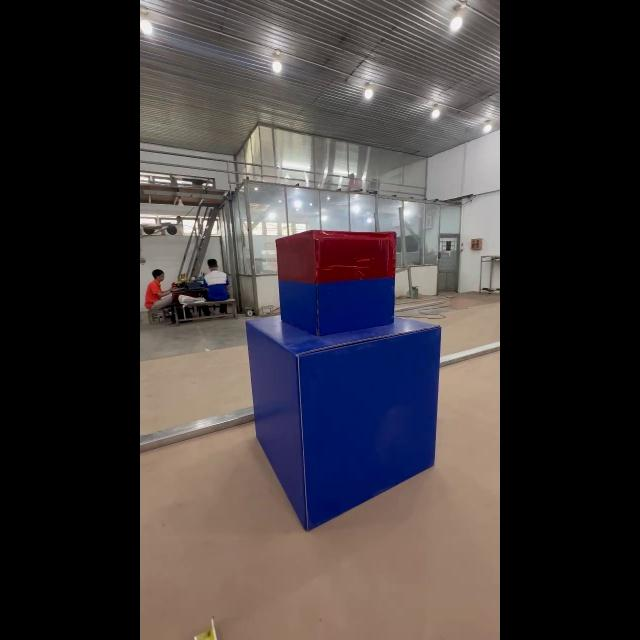earth_block: (244, 318, 446, 533)
sky_block: (271, 230, 400, 334)
